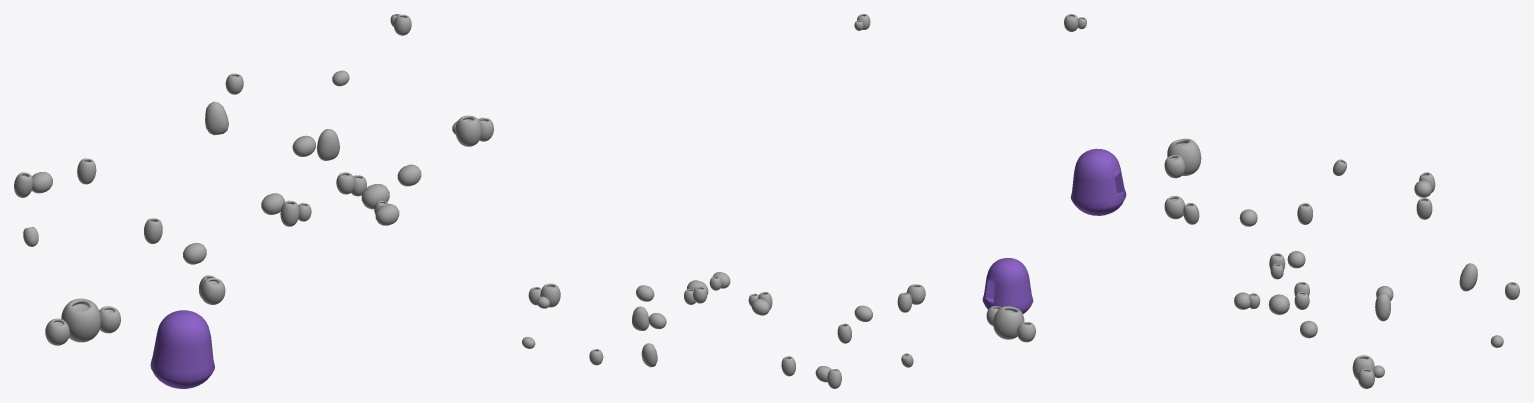
Rendered from Steine.fbx.
3 renders of one model, left to right at view 1: azimuth 30°, elevation 25°; view 2: azimuth 150°, elevation 25°; view 3: azimuth 270°, elevation 25°, orthographic. The views are drawn at different scales.
Visible parts, largest first — view 1: pCube474, pCube214, pCube220, pCube218, pCube217, pCube212, pCube215, pCube496, pCube213, pCube196, pCube198, pCube207 (+4 smaller); view 2: pCube474, pCube214; view 3: pCube474, pCube214, pCube218, pCube213, pCube212.
Part boxes in pixels (x1,y1,x2,y2): pCube474: [150, 310, 214, 388]; pCube214: [61, 298, 100, 342]; pCube220: [455, 115, 481, 146]; pCube218: [205, 101, 228, 135]; pCube217: [317, 129, 339, 160]; pCube212: [200, 277, 225, 304]; pCube215: [45, 318, 69, 345]; pCube496: [361, 184, 389, 209]; pCube213: [99, 306, 120, 333]; pCube196: [397, 164, 421, 186]; pCube198: [375, 204, 399, 225]; pCube207: [280, 200, 299, 226]; pCube474: [982, 258, 1033, 313]; pCube214: [993, 306, 1024, 339]; pCube474: [1070, 148, 1126, 215]; pCube214: [1167, 138, 1201, 175]; pCube218: [1459, 263, 1477, 291]; pCube213: [1164, 155, 1185, 178]; pCube212: [1164, 196, 1184, 219].
Size of the model in its own units: 185 by 106 by 155.
